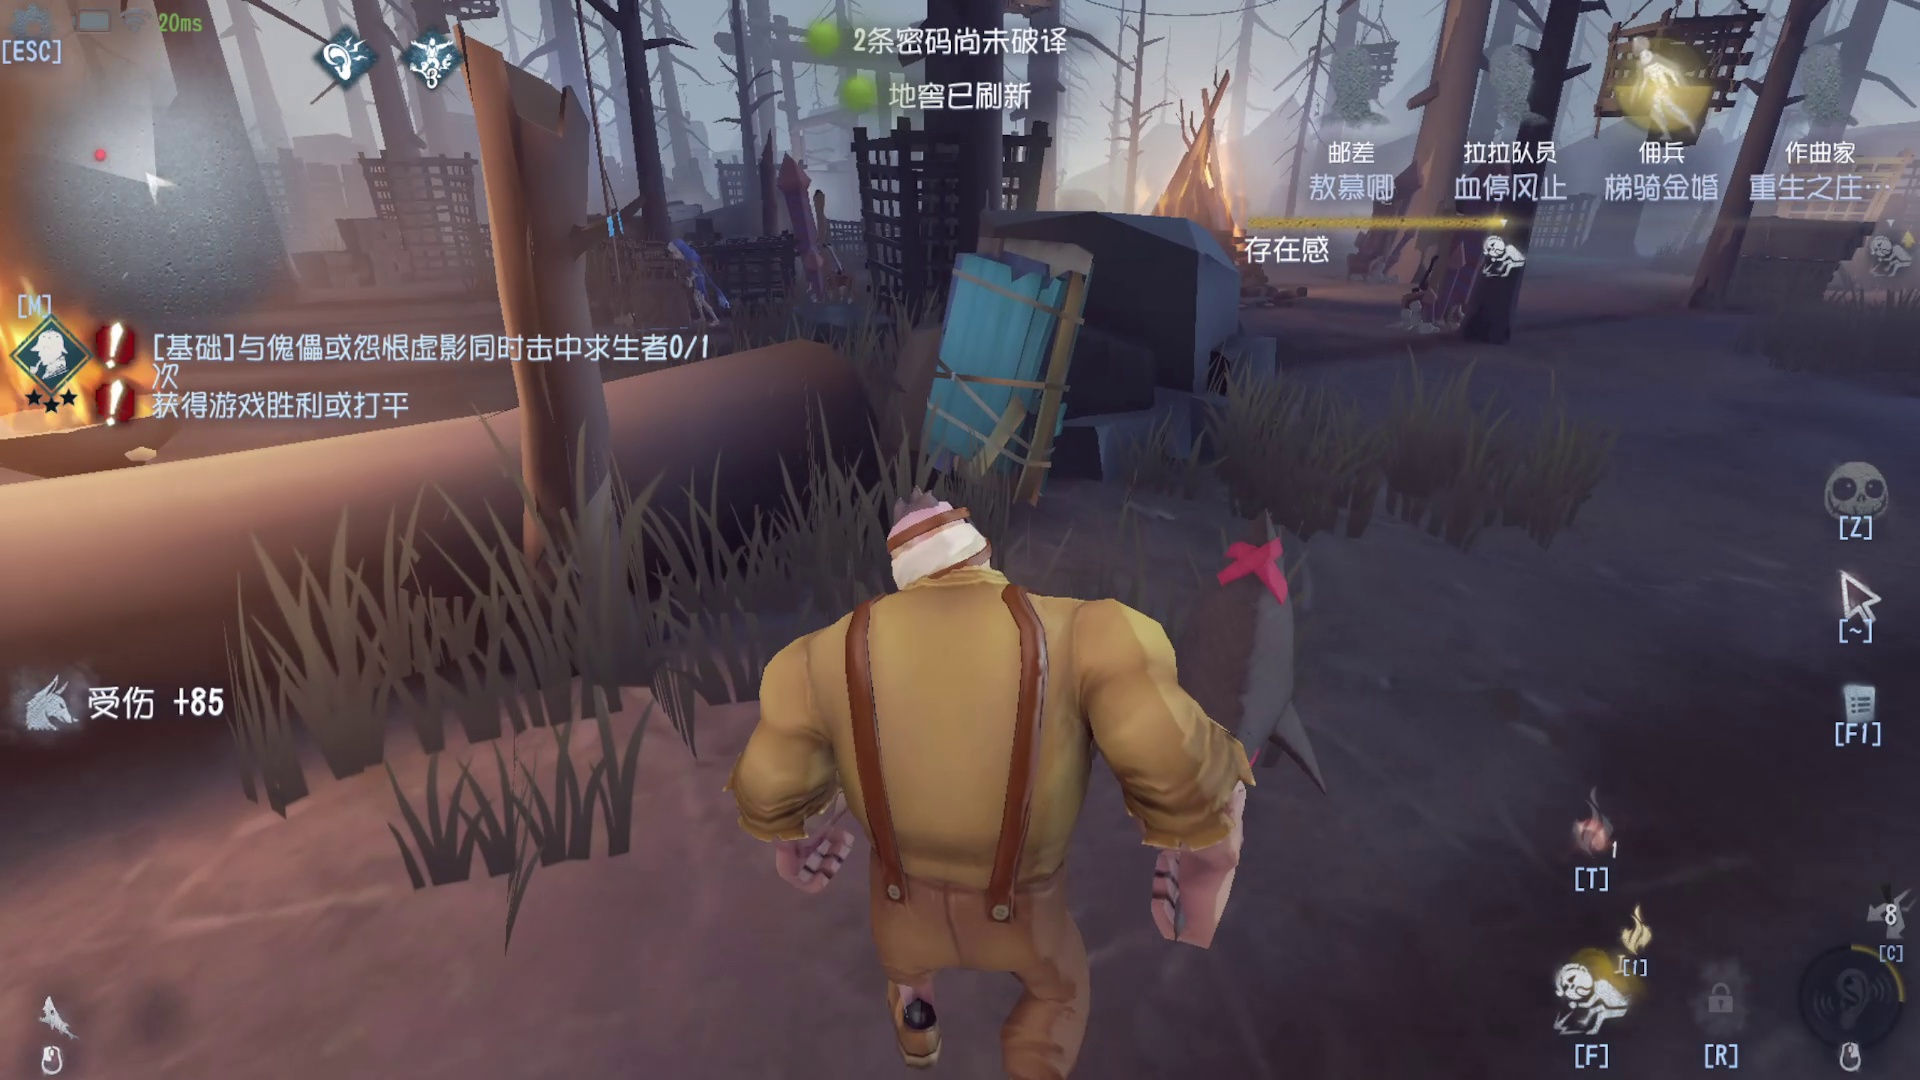木板: (878, 249, 1096, 500)
求生者: (634, 235, 746, 342)
狂欢之椅: (762, 135, 872, 311), (1412, 174, 1505, 353)
